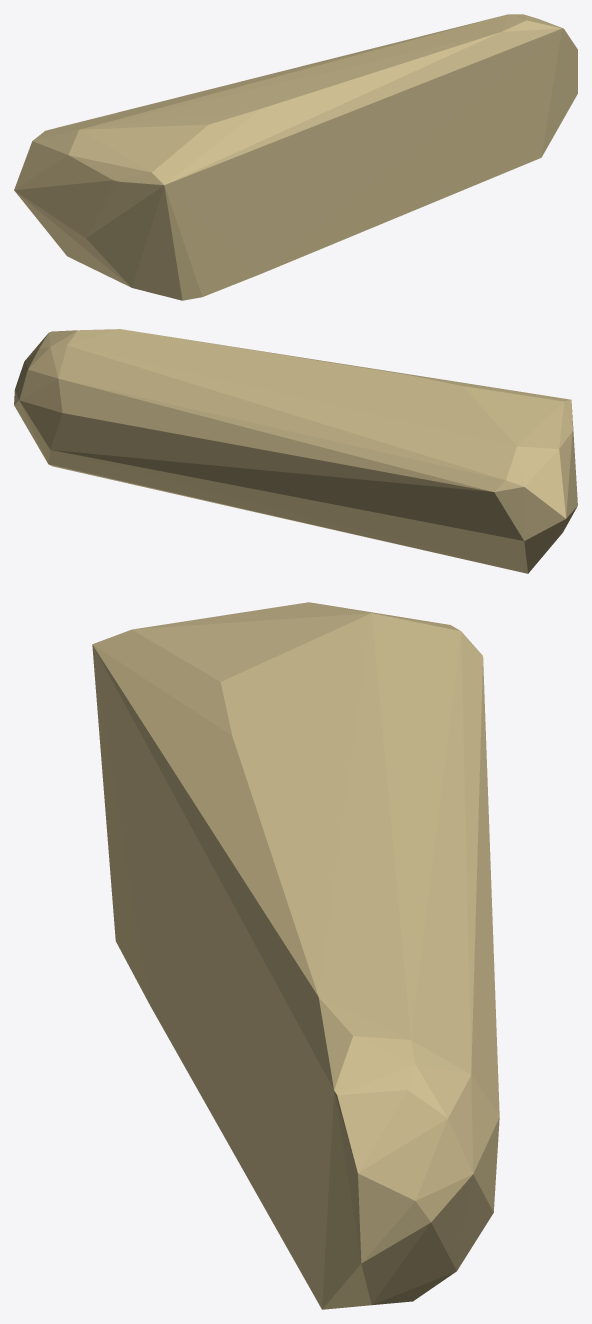
File: thermometer_fever_a01.glb
The picture shows the model from 3 angles, top to bottom: view 1: azimuth 30°, elevation 25°; view 2: azimuth 150°, elevation 25°; view 3: azimuth 270°, elevation 25°; orthographic projection. The views are drawn at different scales.
Visible parts, largest first — view 1: geometry_0; view 2: geometry_0; view 3: geometry_0.
Boxes of the visible parts, left/top/right/bottom form: geometry_0: left=14, top=14, right=577, bottom=300; geometry_0: left=14, top=329, right=577, bottom=573; geometry_0: left=92, top=602, right=499, bottom=1309.
Bounding box in the file's own units: 0.4751 × 0.12 × 0.1515.
